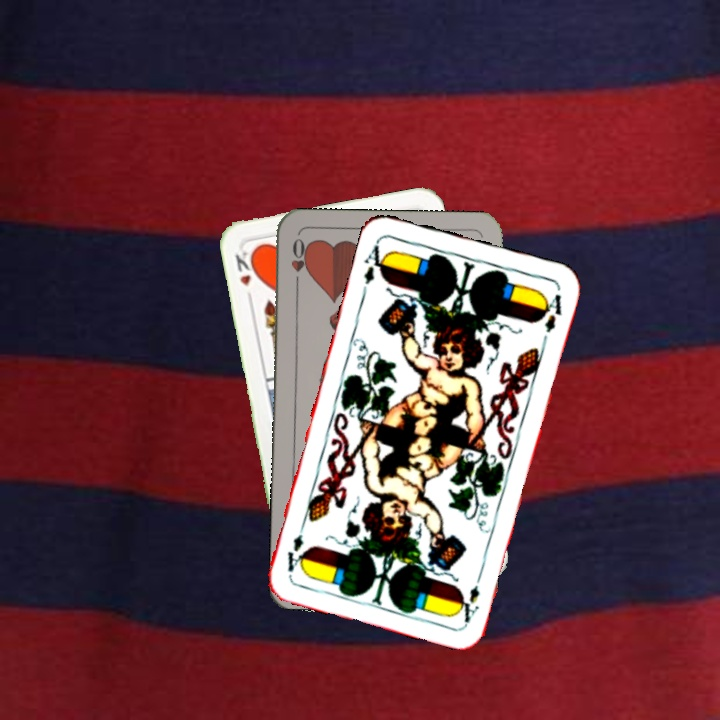EA: (358, 238, 391, 296), (455, 581, 482, 626)
HK: (231, 247, 260, 304)
HO: (287, 234, 309, 293)
